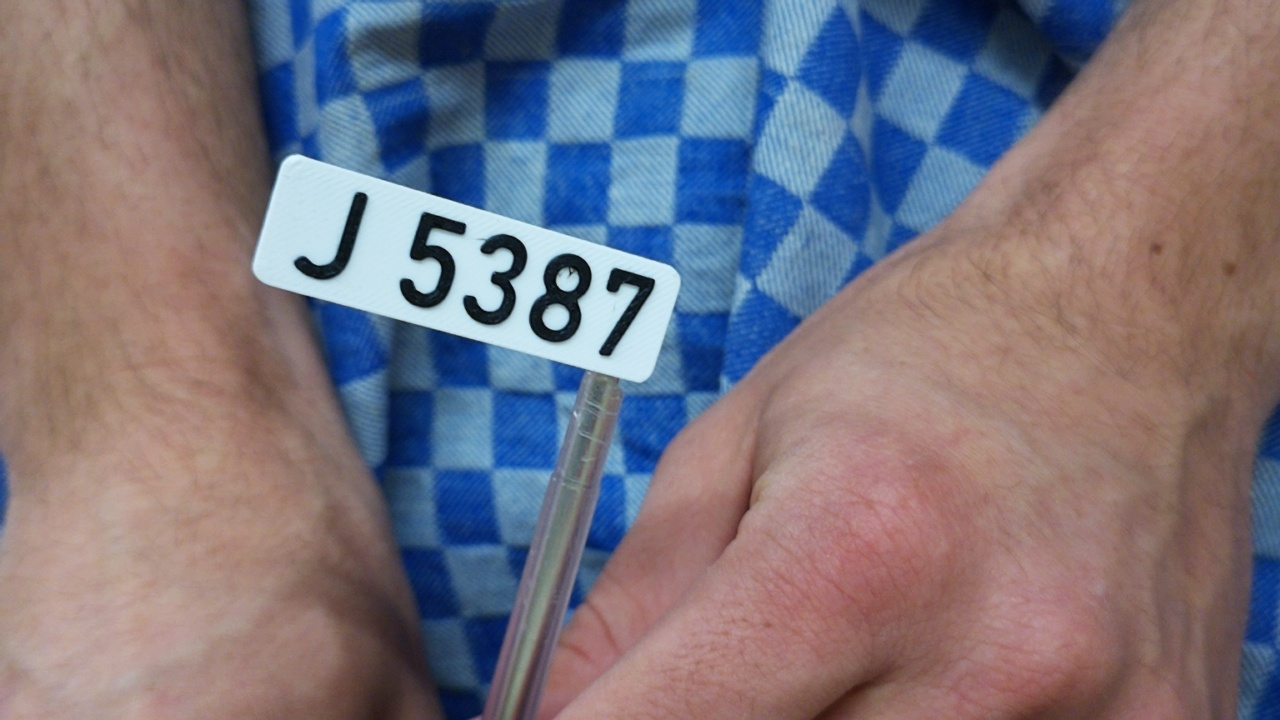license_plate: (247, 149, 684, 386)
